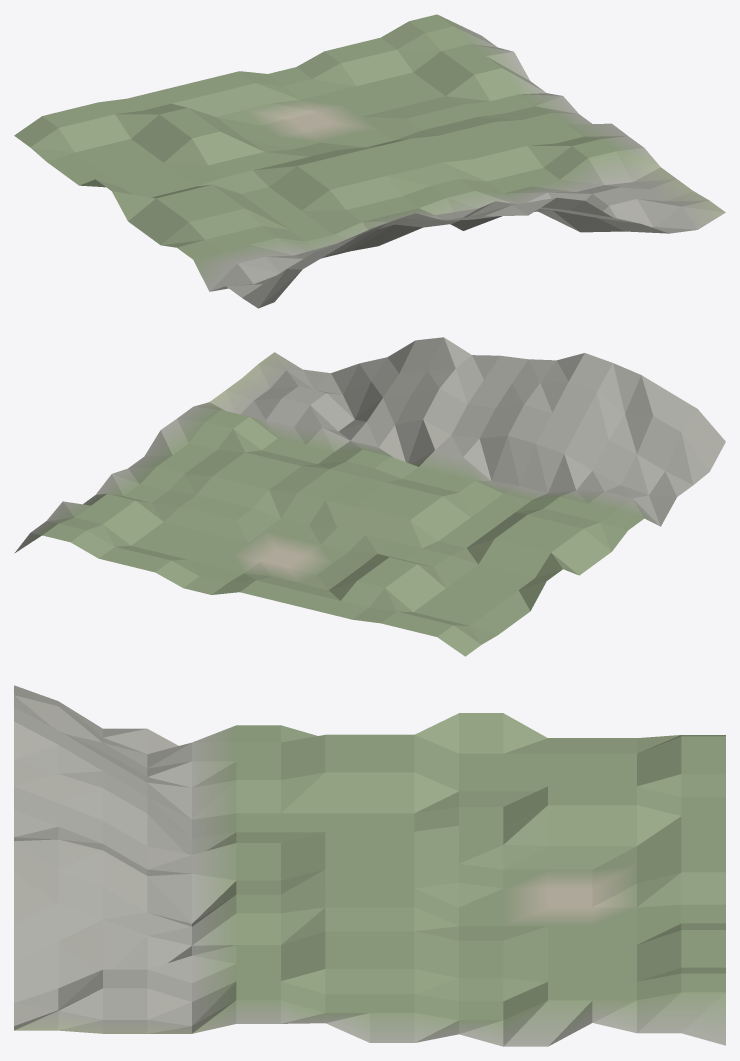
3 views of the same model, one above another, from view 1: azimuth 30°, elevation 25°; view 2: azimuth 150°, elevation 25°; view 3: azimuth 270°, elevation 25° (orthographic). The views are drawn at different scales.
Size of the model in its own units: 32 by 6.31 by 32.
